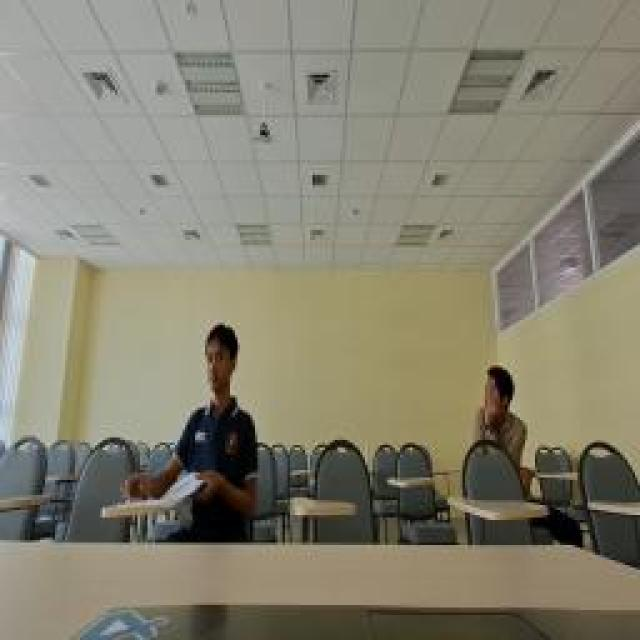study: (132, 310, 258, 540), (468, 368, 532, 498)
